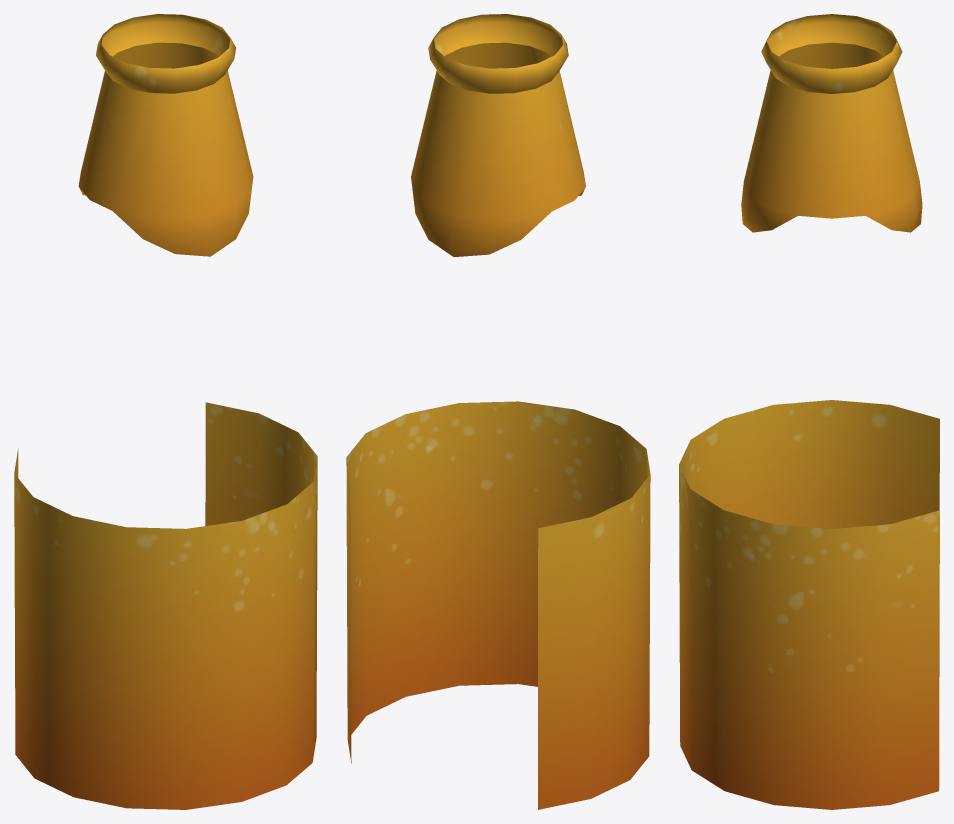
Rendered from Bottle_Reg_Label_02.fbx.
The picture shows the model from 3 angles, left to right: view 1: azimuth 30°, elevation 25°; view 2: azimuth 150°, elevation 25°; view 3: azimuth 270°, elevation 25°; orthographic projection.
Parts seen in each view (by area): view 1: Bottle_Reg_Label_02; view 2: Bottle_Reg_Label_02; view 3: Bottle_Reg_Label_02.
Boxes of the visible parts, bbox=[...] form: Bottle_Reg_Label_02: bbox=[14, 14, 317, 809]; Bottle_Reg_Label_02: bbox=[346, 14, 650, 809]; Bottle_Reg_Label_02: bbox=[679, 14, 939, 809].
Bounding box in the file's own units: 36.3 × 92.28 × 30.99.
